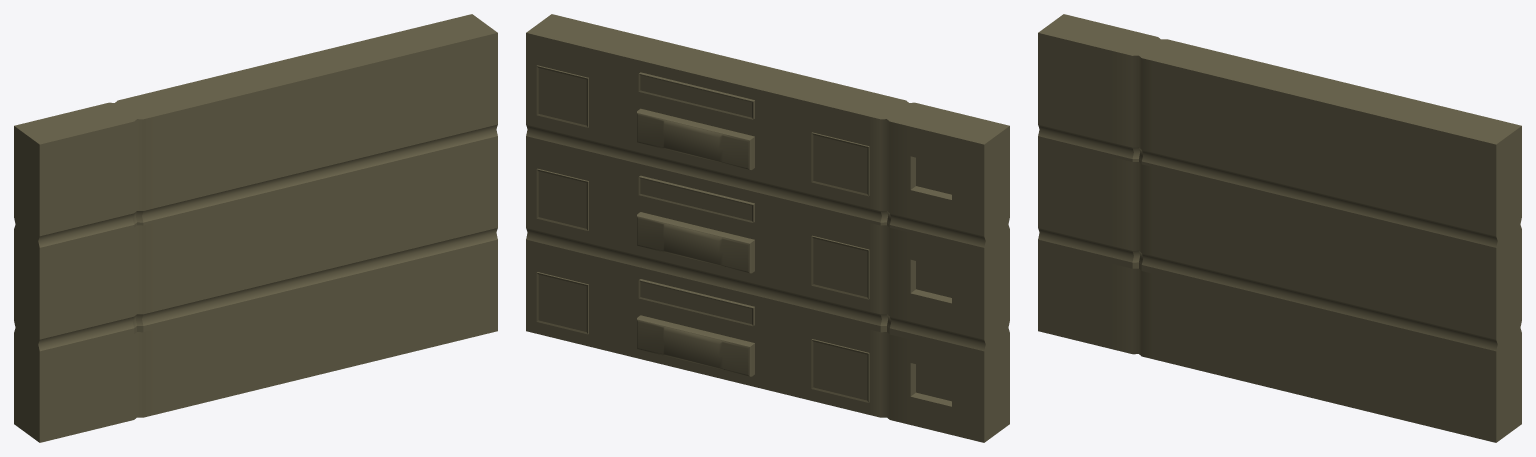
The model's file is table.fbx.
The picture shows the model from 3 angles, left to right: view 1: azimuth 30°, elevation 25°; view 2: azimuth 150°, elevation 25°; view 3: azimuth 330°, elevation 25°; orthographic projection.
Parts seen in each view (by area): view 1: pCube4; view 2: pCube4; view 3: pCube4.
Boxes of the visible parts, box(x1,y1,x2,y2) form: pCube4: box(14, 14, 497, 442); pCube4: box(526, 14, 1009, 442); pCube4: box(1038, 14, 1521, 442).
Size of the model in its own units: 84.94 by 52.86 by 10.23.
